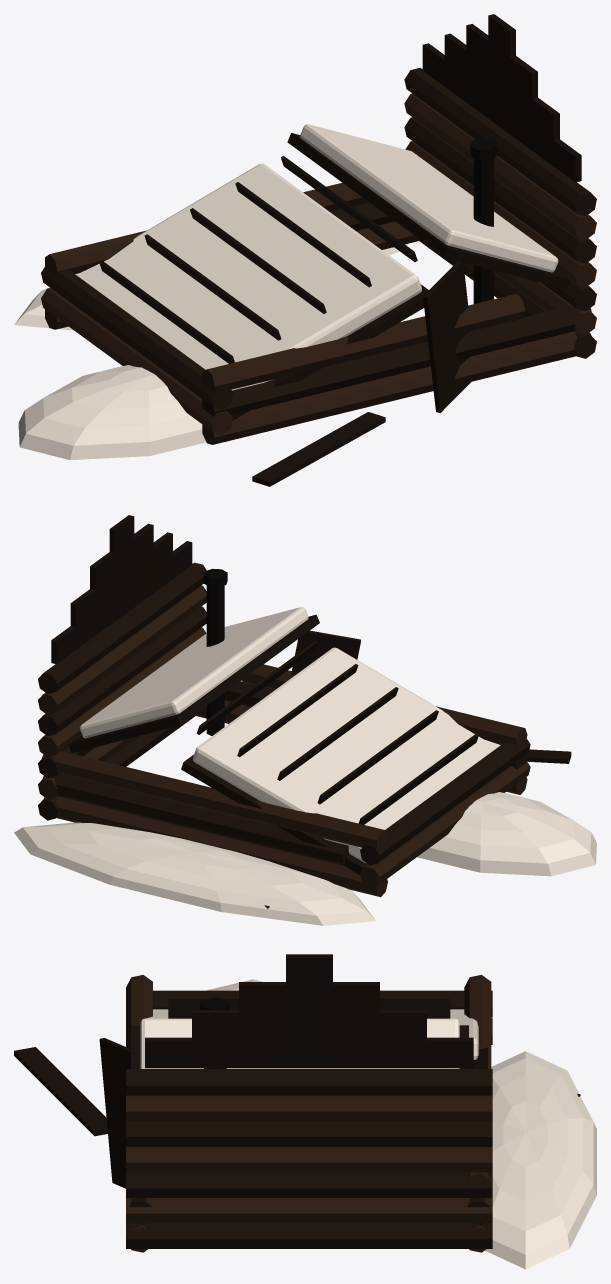
The model's file is rs_mine_cabin.glb.
3 views of the same model, one above another, from view 1: azimuth 30°, elevation 25°; view 2: azimuth 150°, elevation 25°; view 3: azimuth 270°, elevation 25° (orthographic). The views are drawn at different scales.
Parts seen in each view (by area): view 1: minecabin; view 2: minecabin; view 3: minecabin.
Boxes of the visible parts, x1,y1,x2,y2 form: minecabin: (14,14,596,486); minecabin: (14,515,596,925); minecabin: (14,954,596,1269).
Size of the model in its own units: 7 by 3.61 by 6.2.
